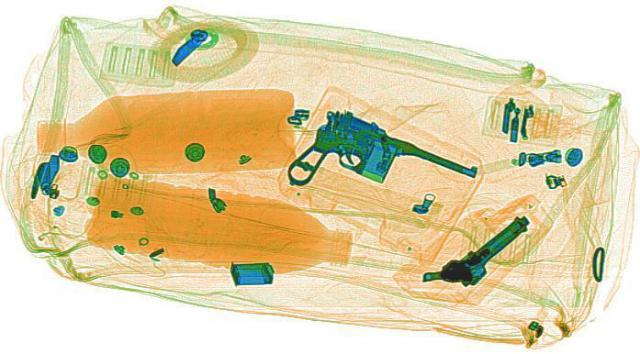Gun: (243, 107, 479, 225), (416, 207, 544, 292)
